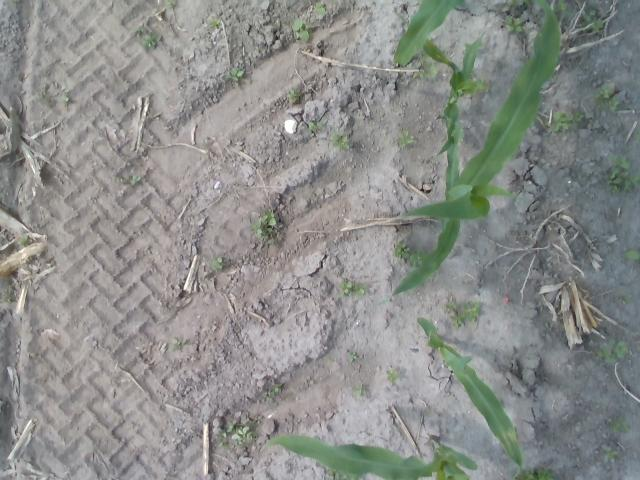Maize: (378, 0, 562, 307), (417, 316, 523, 480), (394, 9, 484, 159), (259, 432, 476, 480), (392, 0, 461, 67)
Weeds: (602, 155, 640, 194), (219, 418, 256, 450), (445, 299, 480, 328), (596, 338, 630, 365), (590, 84, 620, 112), (250, 210, 278, 240), (413, 48, 438, 78), (550, 110, 584, 132), (580, 10, 604, 34), (293, 19, 313, 42), (514, 469, 554, 480), (608, 414, 630, 434), (337, 281, 366, 296), (224, 68, 244, 88), (408, 248, 428, 268), (262, 382, 281, 403), (330, 131, 350, 150), (328, 469, 360, 480), (142, 32, 161, 50), (396, 128, 414, 146), (505, 16, 522, 32), (351, 384, 368, 399), (394, 241, 409, 258), (306, 121, 324, 133), (287, 86, 300, 102), (554, 0, 568, 14), (604, 446, 618, 460), (624, 249, 640, 261), (386, 370, 399, 384), (132, 26, 149, 36), (168, 338, 180, 351), (208, 18, 222, 29), (124, 176, 142, 184), (212, 256, 222, 270), (315, 1, 325, 14), (17, 234, 29, 244), (163, 0, 176, 8), (506, 0, 518, 8), (634, 125, 640, 140), (347, 352, 356, 362), (620, 294, 631, 302), (59, 94, 70, 102), (3, 297, 12, 302)
